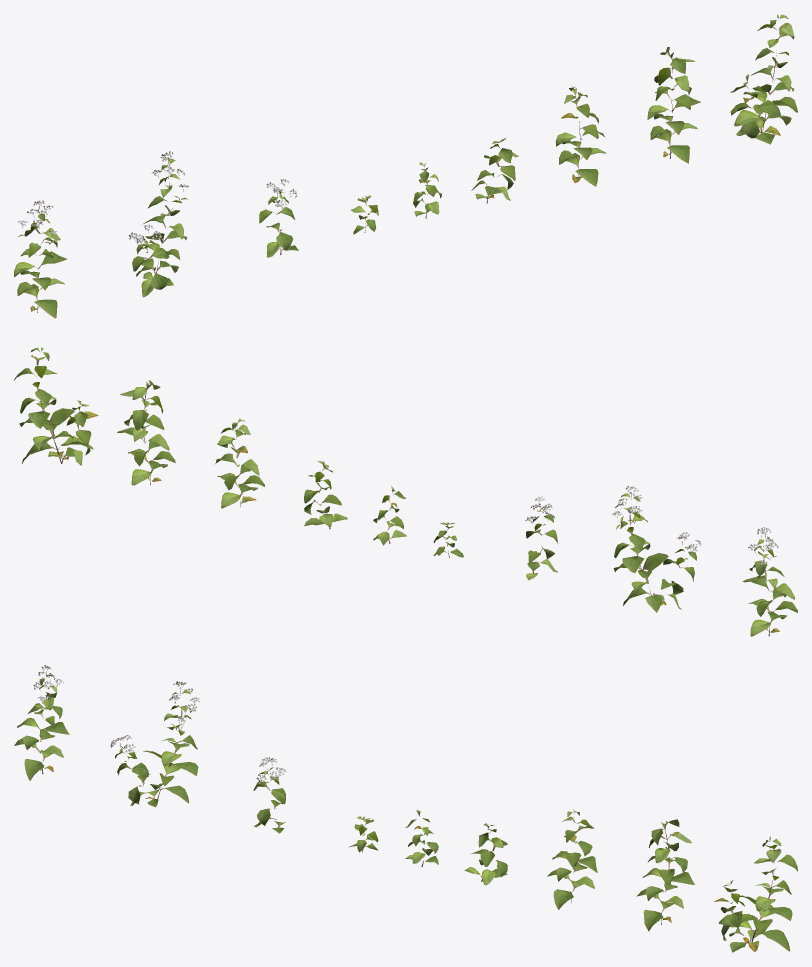
Rendered from shrub_01.glb.
3 renders of one model, top to bottom at view 1: azimuth 30°, elevation 25°; view 2: azimuth 150°, elevation 25°; view 3: azimuth 330°, elevation 25°, orthographic. The views are drawn at different scales.
Visible parts, largest first — view 1: shrub_01_a; view 2: shrub_01_a; view 3: shrub_01_a.
Part boxes in pixels (x1,y1,x2,y2): shrub_01_a: [14, 14, 797, 318]; shrub_01_a: [14, 347, 797, 636]; shrub_01_a: [14, 665, 797, 952].
Size of the model in its own units: 2.59 by 0.3955 by 0.2184.
1 material, 1 textured.
